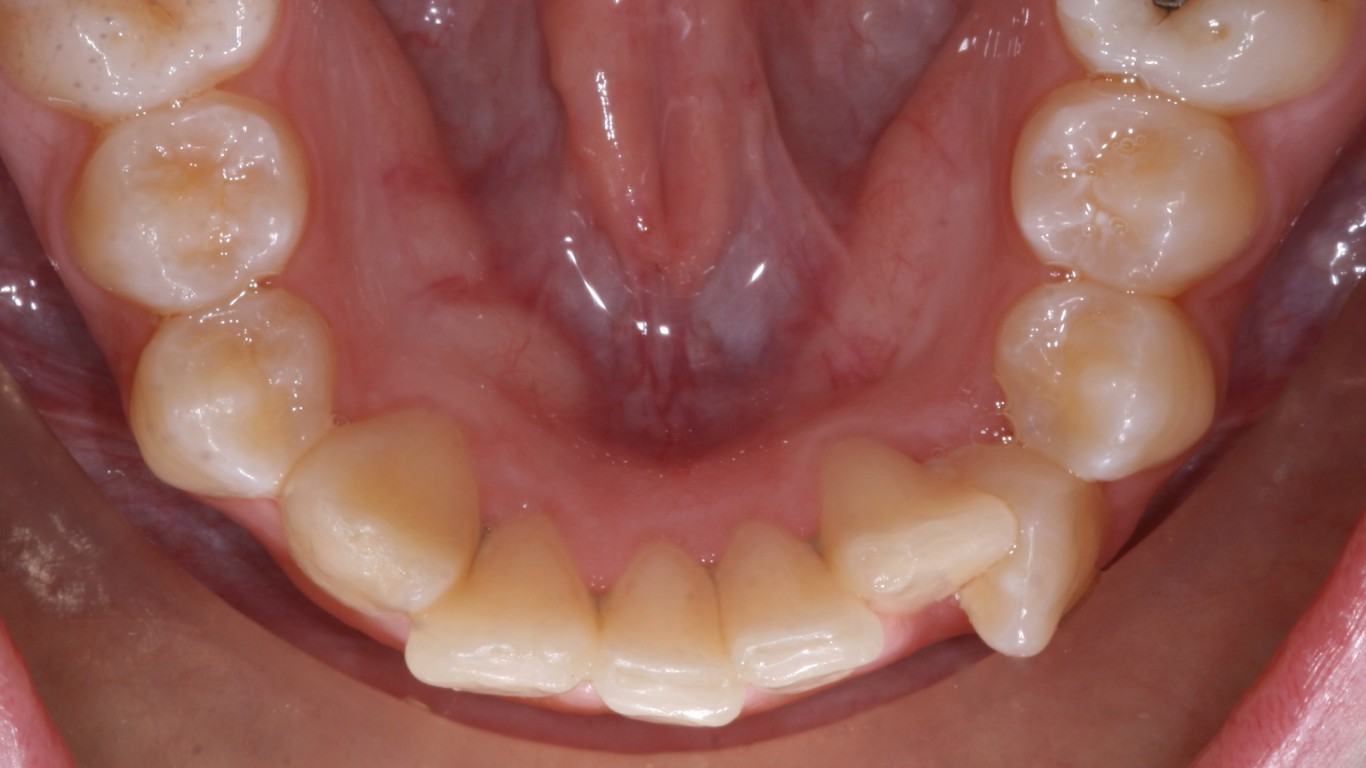LL1BC_healthy: (998, 289, 1215, 477)
LL1M_decay: (1062, 3, 1344, 102)
LL2BC_healthy: (1011, 82, 1243, 285)
LLCI_healthy: (723, 533, 884, 681)
LLC_healthy: (963, 447, 1095, 660)
LLLI_healthy: (824, 442, 1017, 613)
LR1BC_healthy: (134, 302, 327, 482)
LR1M_decay: (17, 3, 265, 106)
LR2BC_healthy: (76, 100, 300, 300)
LRCI_healthy: (601, 543, 739, 725)
LRC_healthy: (293, 415, 473, 599)
LRLI_healthy: (418, 523, 598, 698)
